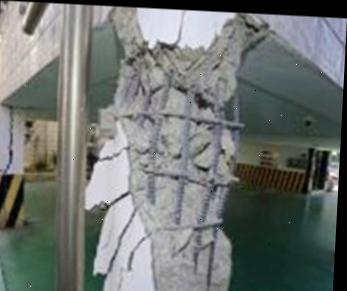spalling: (96, 6, 269, 291)
